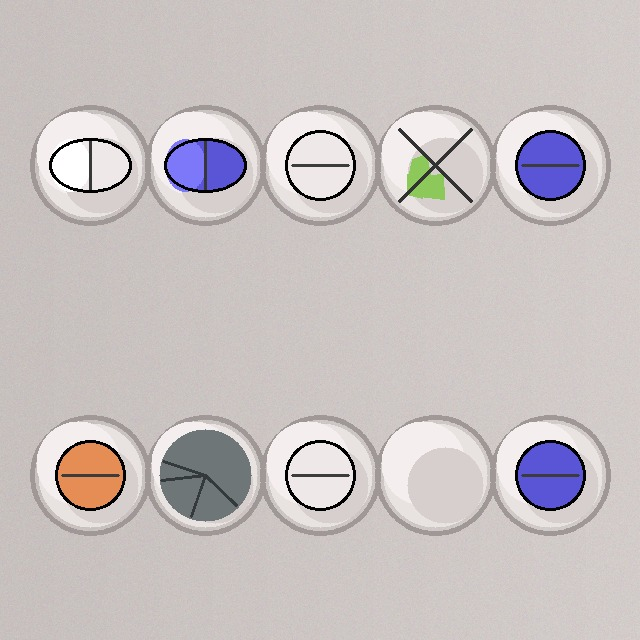broken: (373, 103, 497, 227)
empty: (143, 413, 267, 537)
missing: (373, 413, 497, 537)
